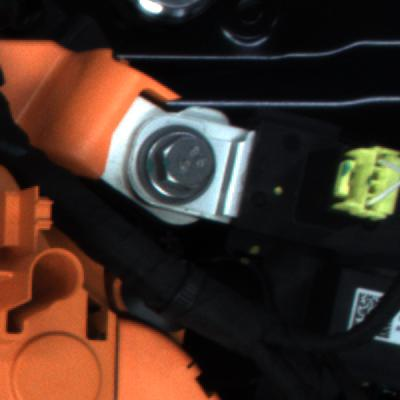nut_b: (135, 120, 226, 209)
